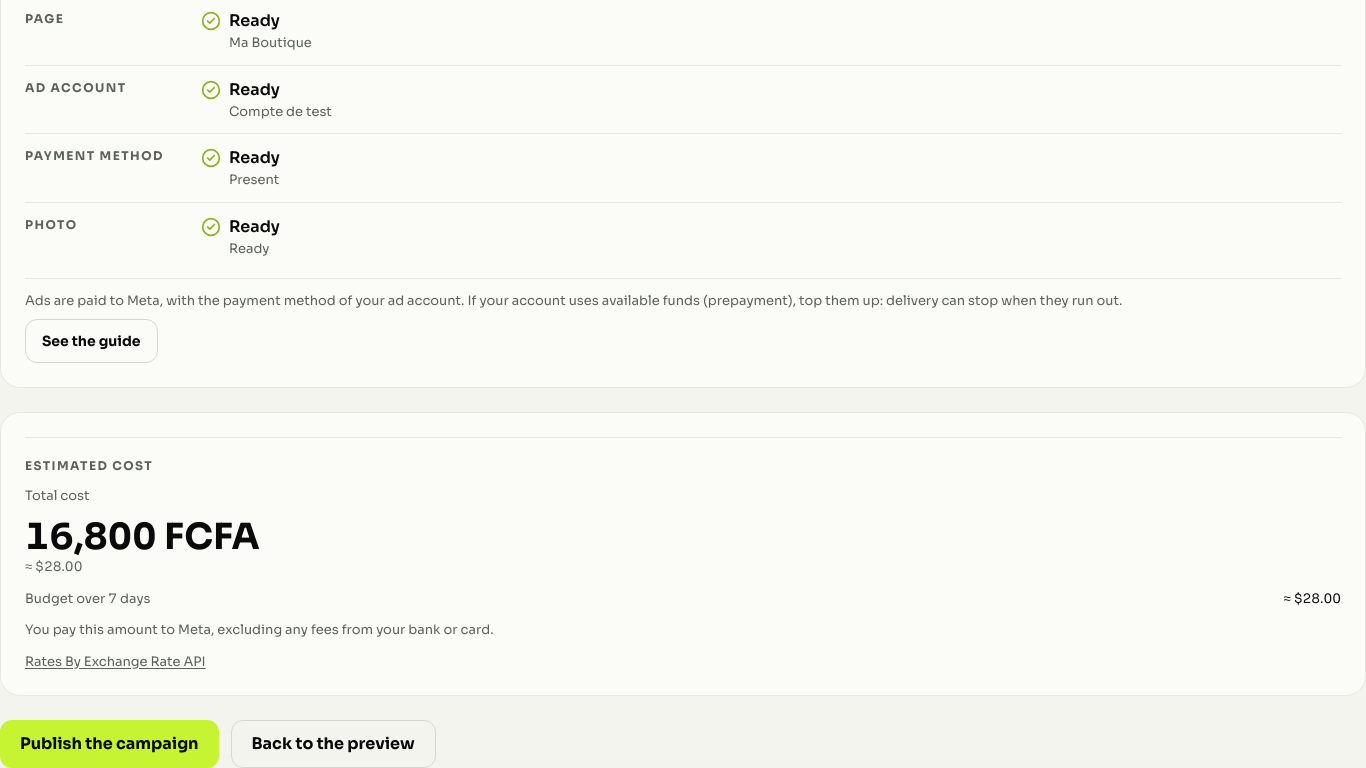
Test: Étape Publier — chaque erreur (APPFLOW §8.6) › INTERRUPTEUR : le même message en anglais
The image size is (1366, 768).
(page scrolled)
Click the button "Publish the campaign": coordinates (109, 744) [0,720,218,767]
(page scrolled)
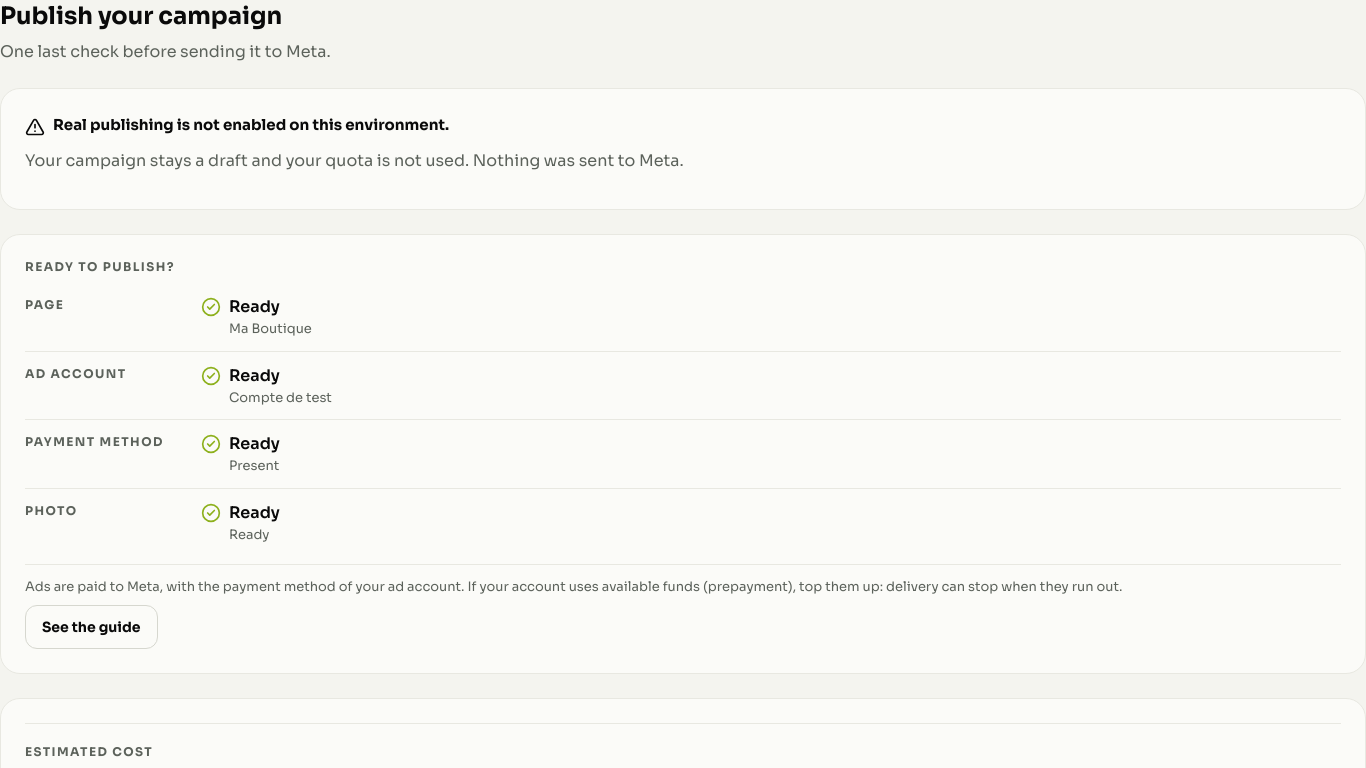
Now the heading "Real publishing is not enabled on this environment." is shown, box [25,115,449,137]
